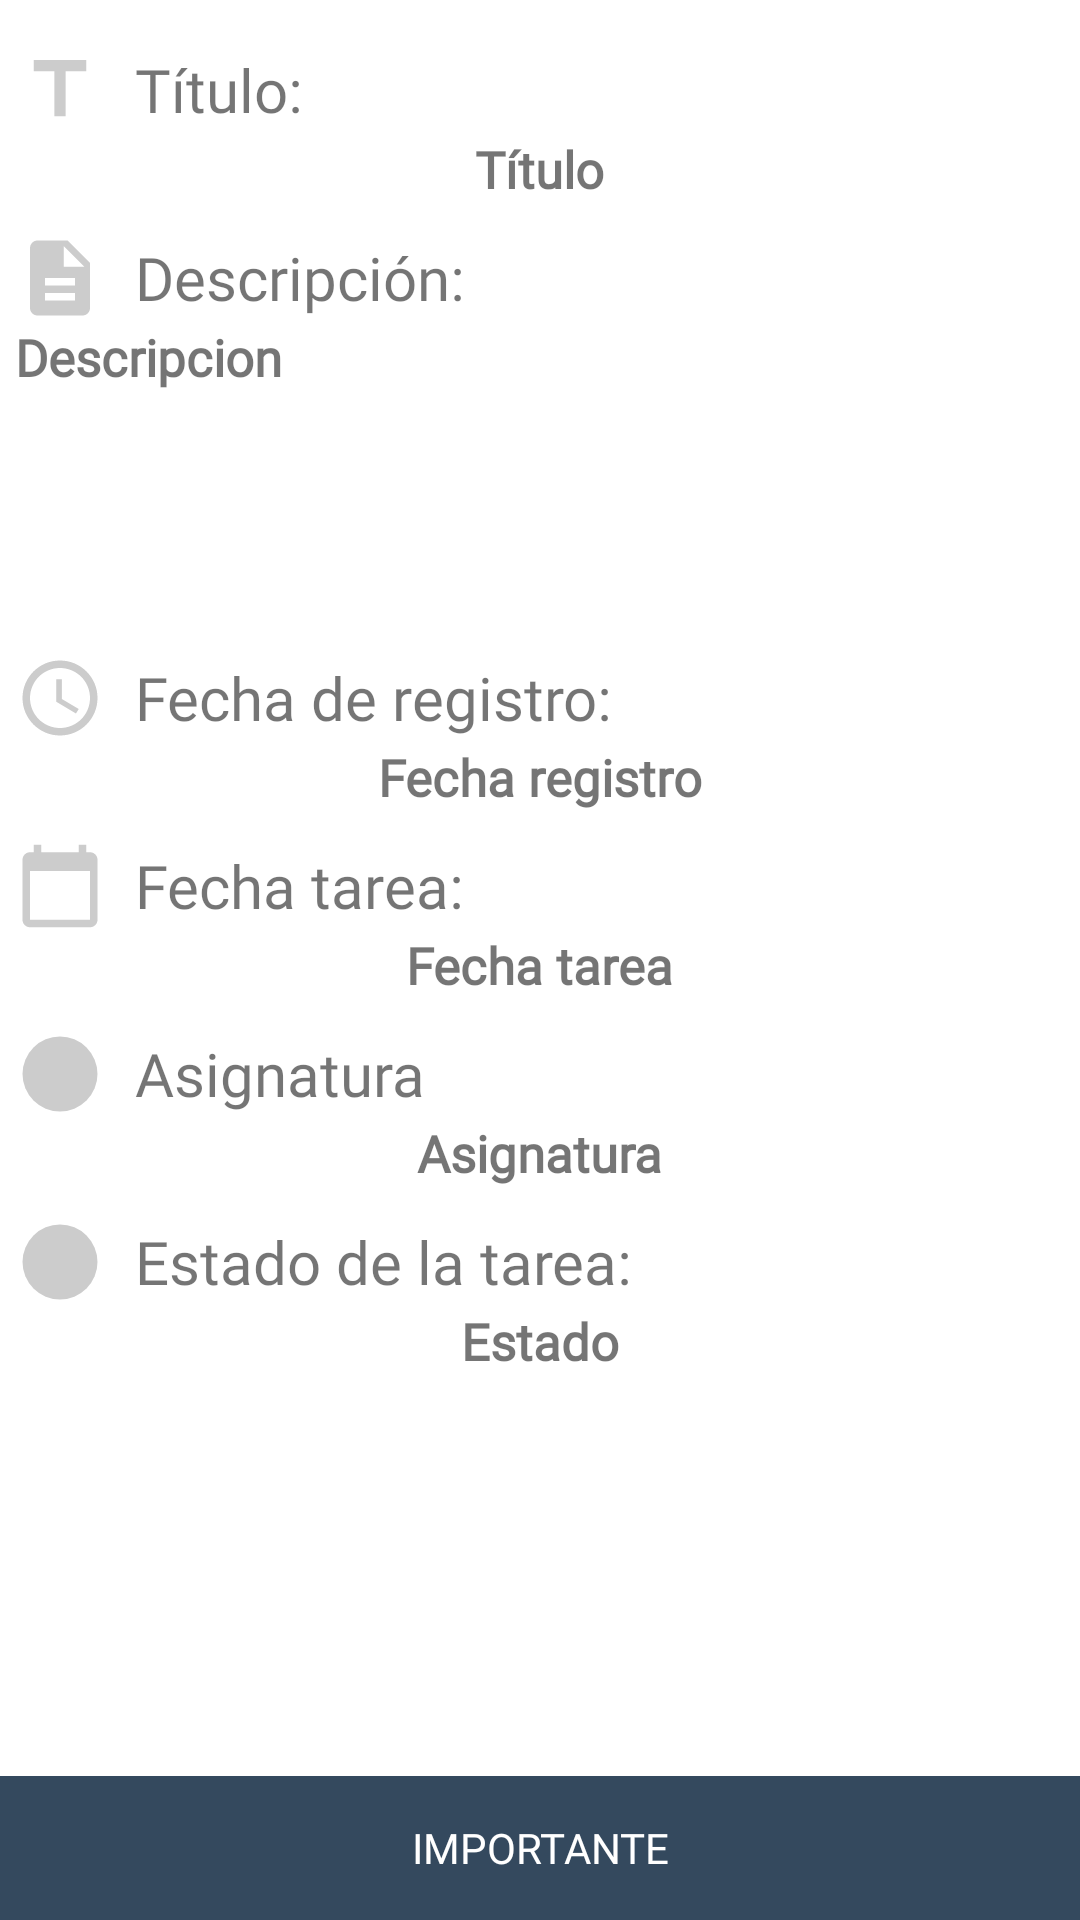

Icon click points for this 1080px x 1920px phone screenshot, format (x,y):
fecha registro tarea detalle: (60,698)
titulo tarea detalle: (60,88)
